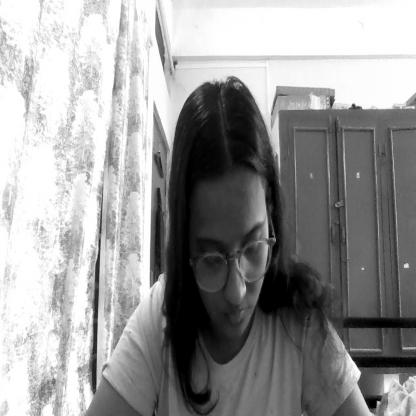Distracted: (183, 127, 275, 331)
